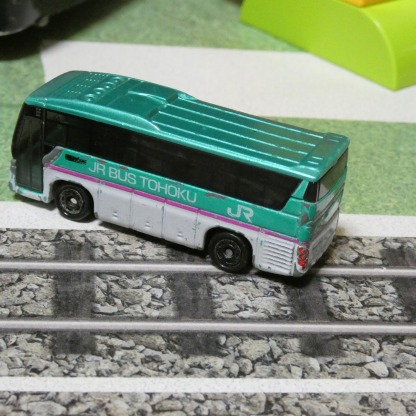car: (11, 68, 345, 280)
